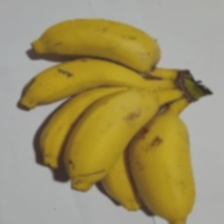banana: (24, 14, 177, 216)
